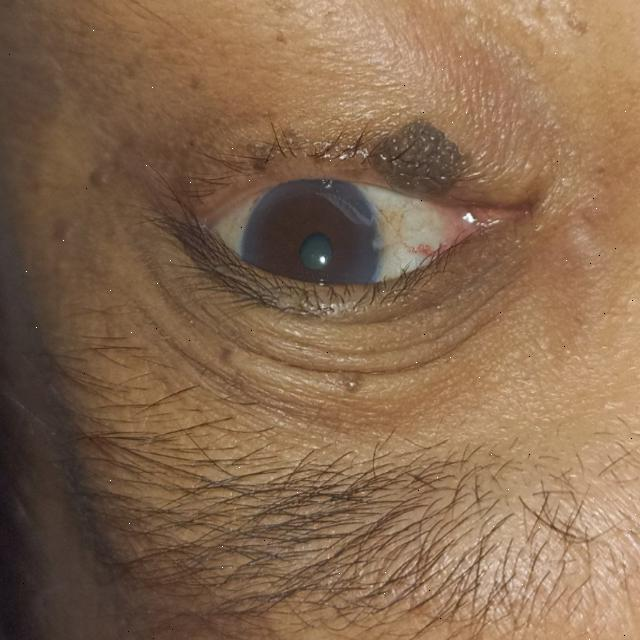Cataract: (241, 169, 382, 335)
